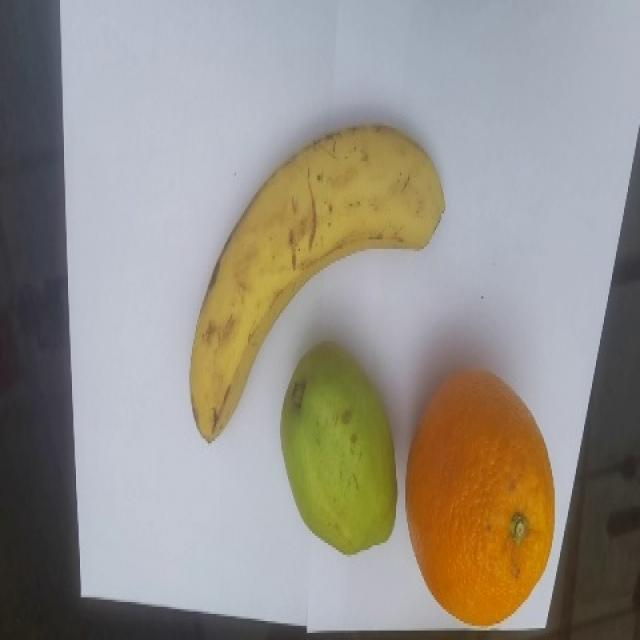Banana: (189, 122, 445, 443)
Orange: (404, 368, 555, 626)
